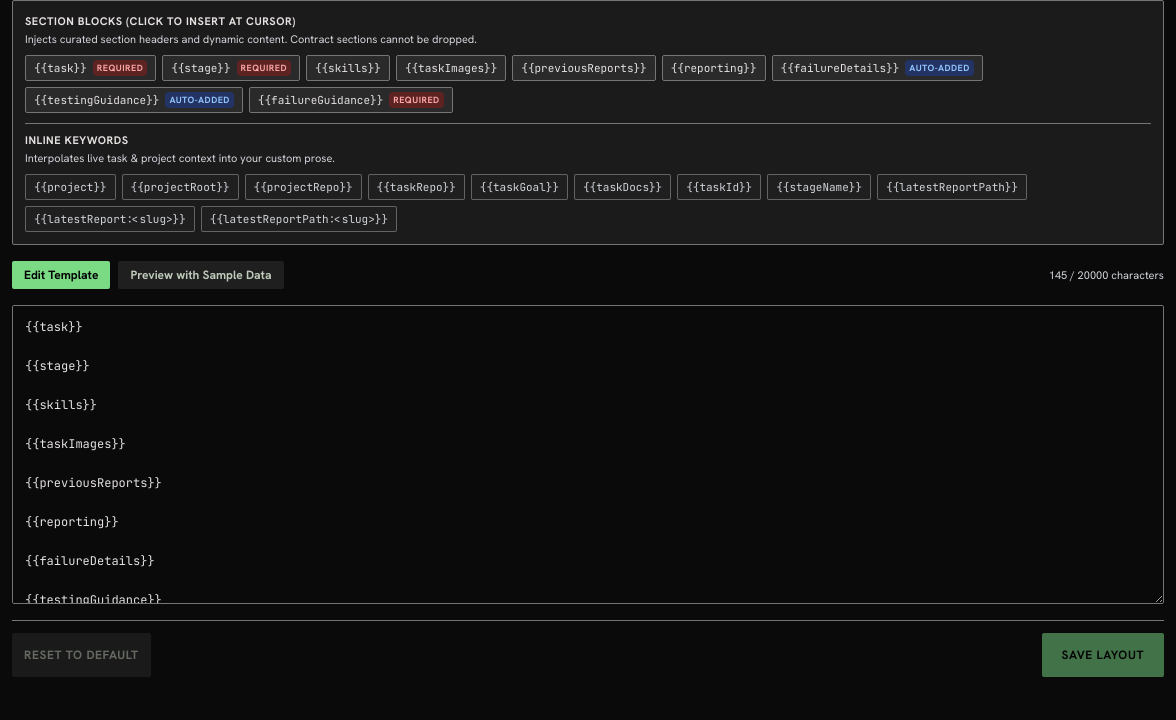
Test: dry-run preview renders the markdown and auto-reinject notices
Expected: the text box with test id "prompt-layout-textarea" is shown, [12,305,1164,604]
Step 1. Click the button "Preview with Sample Data" → point(201, 275), box [118,261,284,289]
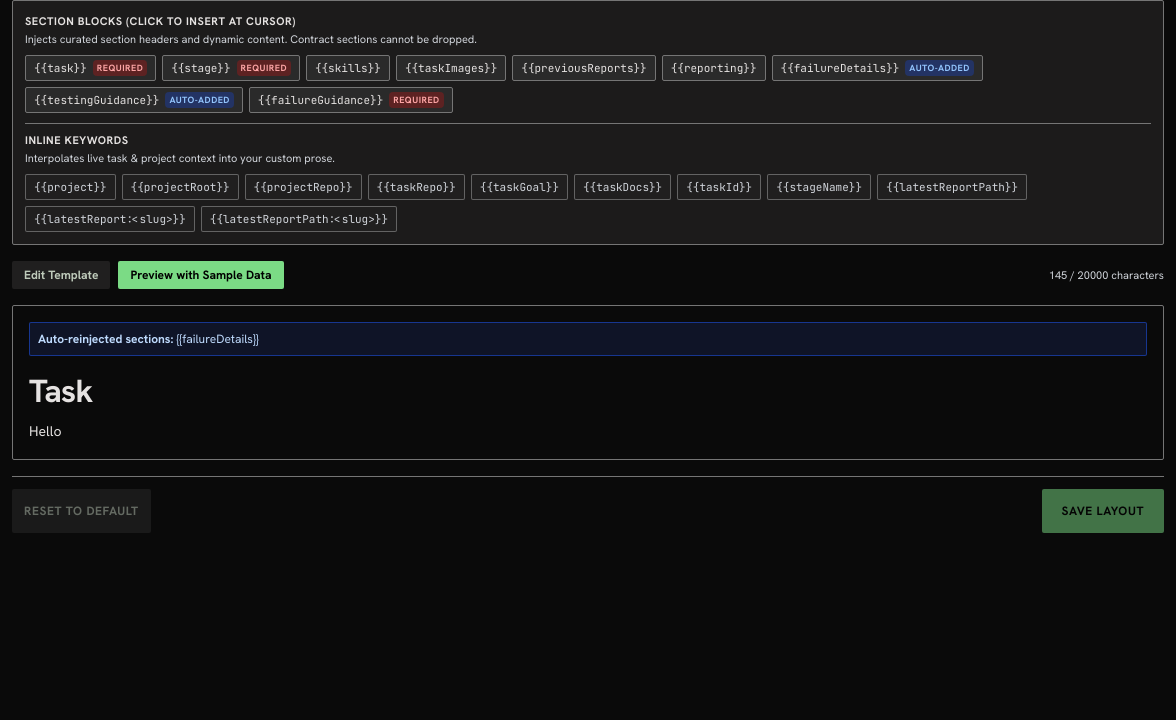
Expected: the element with test id "prompt-layout-preview-pane" shows "Hello", [29,422,62,440]
Expected: the element with test id "prompt-layout-preview-pane" shows "{{failureDetails}}", [176,331,259,347]
